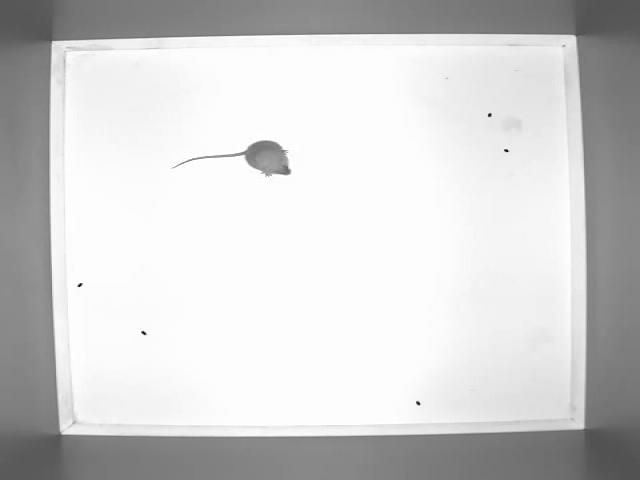Tikus: (174, 139, 293, 178)
